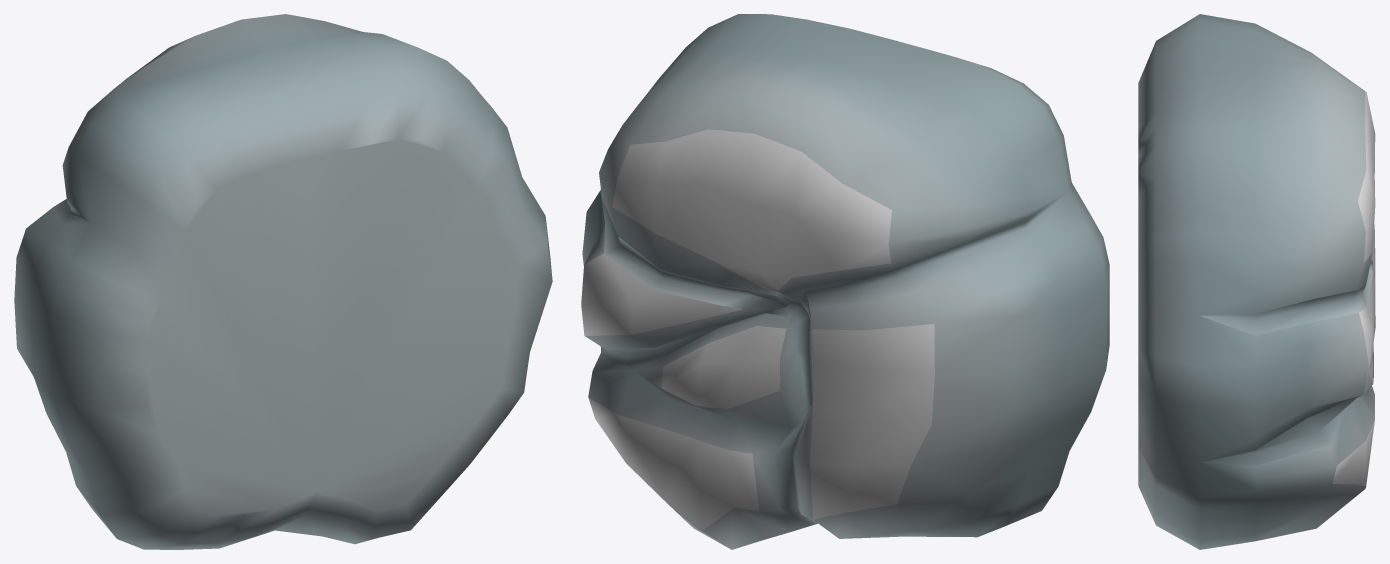
File: IceFloe.004.glb
The picture shows the model from 3 angles, left to right: view 1: azimuth 30°, elevation 25°; view 2: azimuth 150°, elevation 25°; view 3: azimuth 270°, elevation 25°; orthographic projection. The views are drawn at different scales.
Visible parts, largest first — view 1: IceFloe.004; view 2: IceFloe.004; view 3: IceFloe.004.
Boxes of the visible parts, x1,y1,x2,y2 form: IceFloe.004: [14, 14, 552, 549]; IceFloe.004: [581, 14, 1109, 549]; IceFloe.004: [1138, 14, 1375, 549].
Size of the model in its own units: 355 by 337 by 164.
